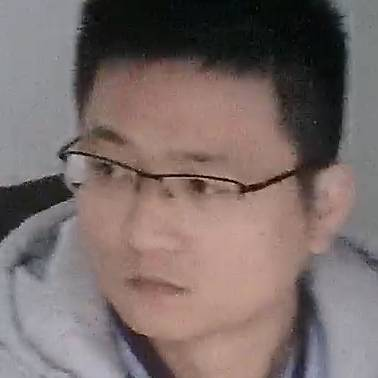gg: (26, 19, 362, 355)
